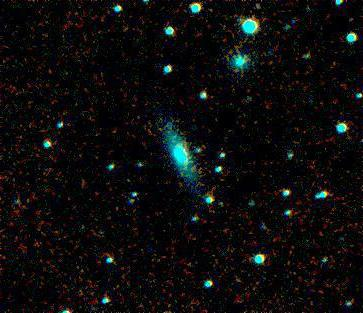star: (340, 2, 363, 32)
